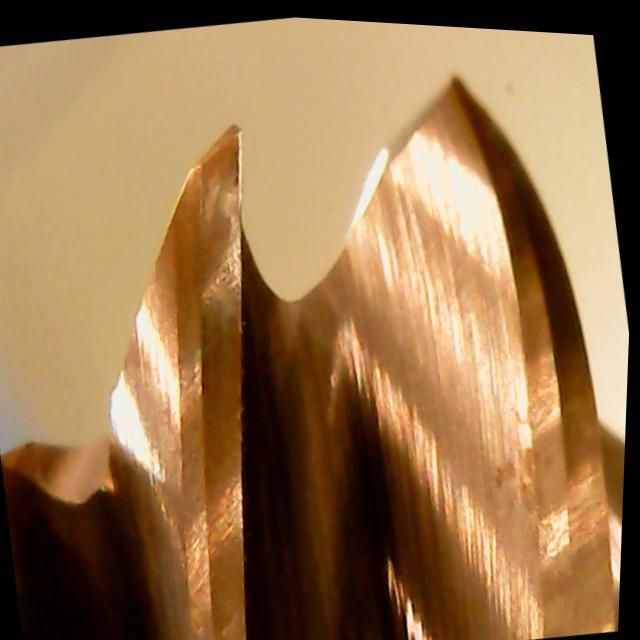Tool-wear-class-0: (138, 104, 304, 455)
